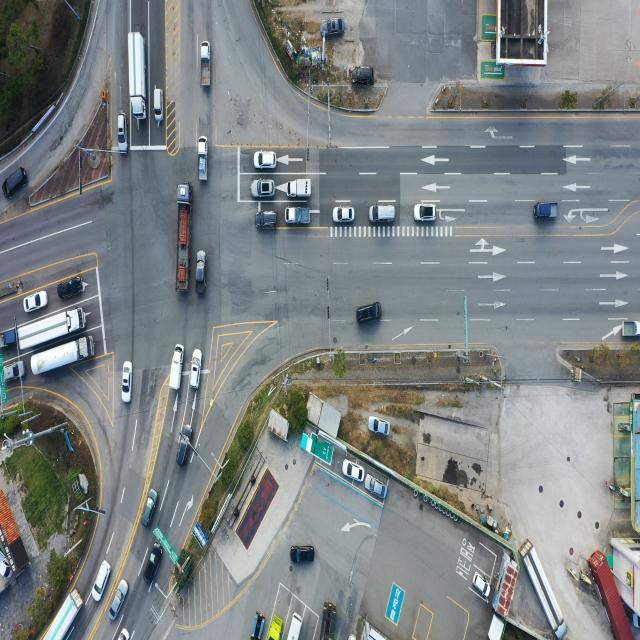car: (144, 540, 162, 586), (108, 578, 128, 619), (4, 170, 28, 202), (94, 560, 112, 601), (141, 488, 159, 528), (176, 424, 192, 467), (58, 276, 86, 299), (366, 476, 388, 503), (356, 302, 382, 324), (343, 459, 365, 484), (2, 359, 25, 382), (26, 292, 49, 313), (366, 416, 389, 437), (289, 548, 314, 567), (474, 572, 492, 598), (121, 362, 132, 404), (352, 65, 374, 86), (322, 18, 345, 38), (371, 205, 396, 223), (189, 350, 200, 390), (255, 210, 278, 229), (252, 179, 274, 198), (254, 150, 276, 168), (117, 114, 127, 153), (414, 205, 436, 222), (334, 207, 356, 223), (153, 88, 163, 122)
medium_truck: (523, 539, 569, 637), (28, 333, 96, 379), (15, 310, 84, 353), (37, 584, 85, 638), (128, 30, 149, 120), (178, 184, 194, 294), (319, 602, 335, 640)
small_bus: (285, 613, 303, 640)
small_truck: (196, 135, 209, 182), (170, 344, 183, 390), (201, 42, 213, 90), (287, 179, 313, 199), (286, 206, 312, 226), (197, 251, 208, 296), (534, 202, 558, 220), (0, 329, 18, 352), (252, 612, 266, 640), (269, 612, 283, 640), (621, 320, 640, 338)
